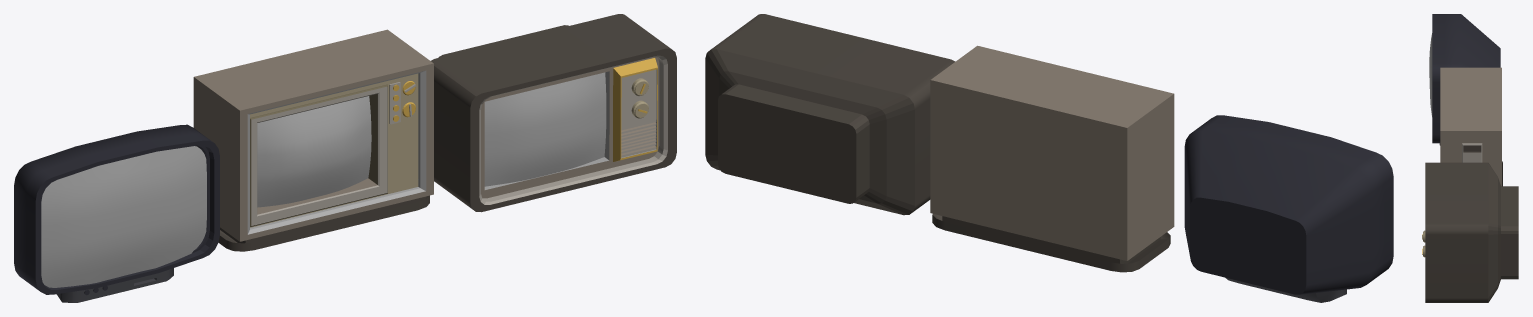
Rendered from fin_tvs.fbx.
3 renders of one model, left to right at view 1: azimuth 30°, elevation 25°; view 2: azimuth 150°, elevation 25°; view 3: azimuth 270°, elevation 25°, orthographic. The views are drawn at different scales.
Visible parts, largest first — view 1: TV_2, TV_3, TV_1; view 2: TV_2, TV_3, TV_1; view 3: TV_3, TV_2, TV_1.
Boxes of the visible parts, x1=… form: TV_2: x1=193, y1=29, x2=433, y2=251; TV_3: x1=431, y1=14, x2=676, y2=212; TV_1: x1=14, y1=124, x2=219, y2=302; TV_2: x1=930, y1=45, x2=1174, y2=272; TV_3: x1=705, y1=14, x2=955, y2=215; TV_1: x1=1184, y1=115, x2=1393, y2=302; TV_3: x1=1422, y1=162, x2=1518, y2=302; TV_2: x1=1440, y1=67, x2=1502, y2=186; TV_1: x1=1429, y1=14, x2=1500, y2=145.
Size of the model in its own units: 20.74 by 4.74 by 4.09.
